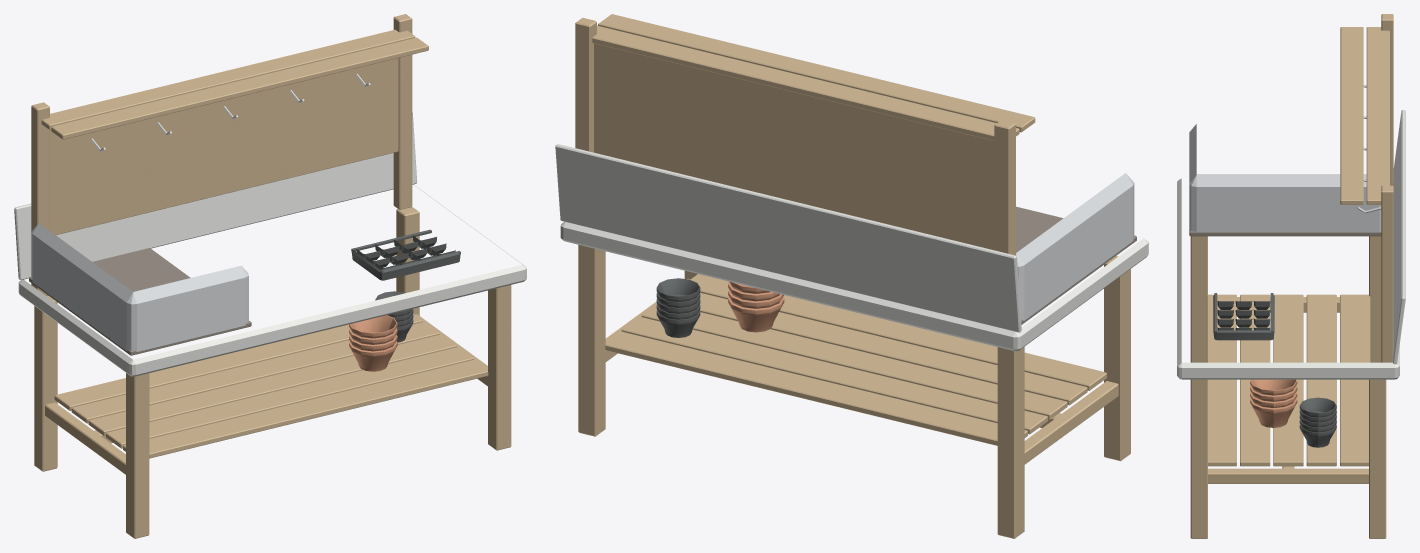
File: garden-centre-and-florist-potting-bench-ef4b1c94__17739.glb
The picture shows the model from 3 angles, left to right: view 1: azimuth 30°, elevation 25°; view 2: azimuth 150°, elevation 25°; view 3: azimuth 270°, elevation 25°; orthographic projection. The views are drawn at different scales.
Parts seen in each view (by area): view 1: potting-bench; view 2: potting-bench; view 3: potting-bench.
Part boxes in pixels (x1,y1,x2,y2): potting-bench: [14, 14, 526, 538]; potting-bench: [555, 14, 1148, 538]; potting-bench: [1177, 14, 1405, 538].
Bounding box in the file's own units: 1.8 × 1.55 × 0.9243.
